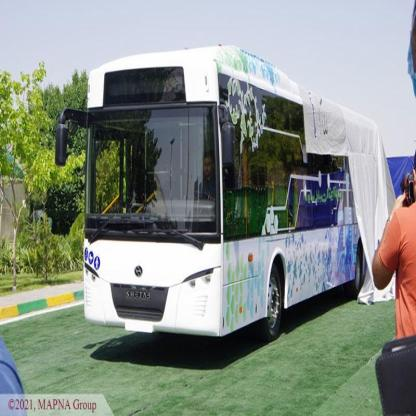Bus: (80, 36, 388, 349)
